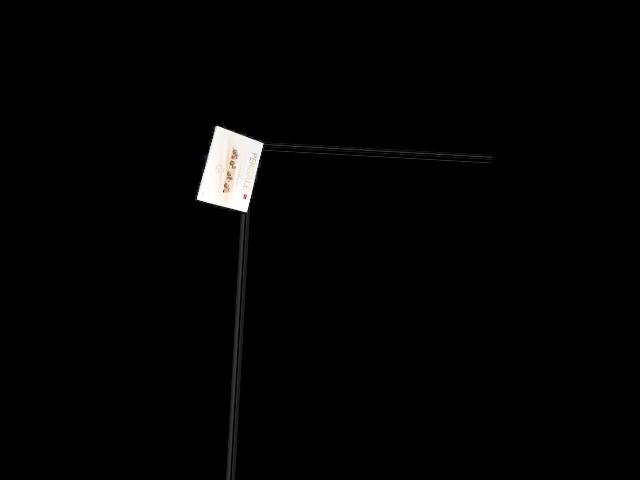chocolate: (193, 128, 263, 209)
